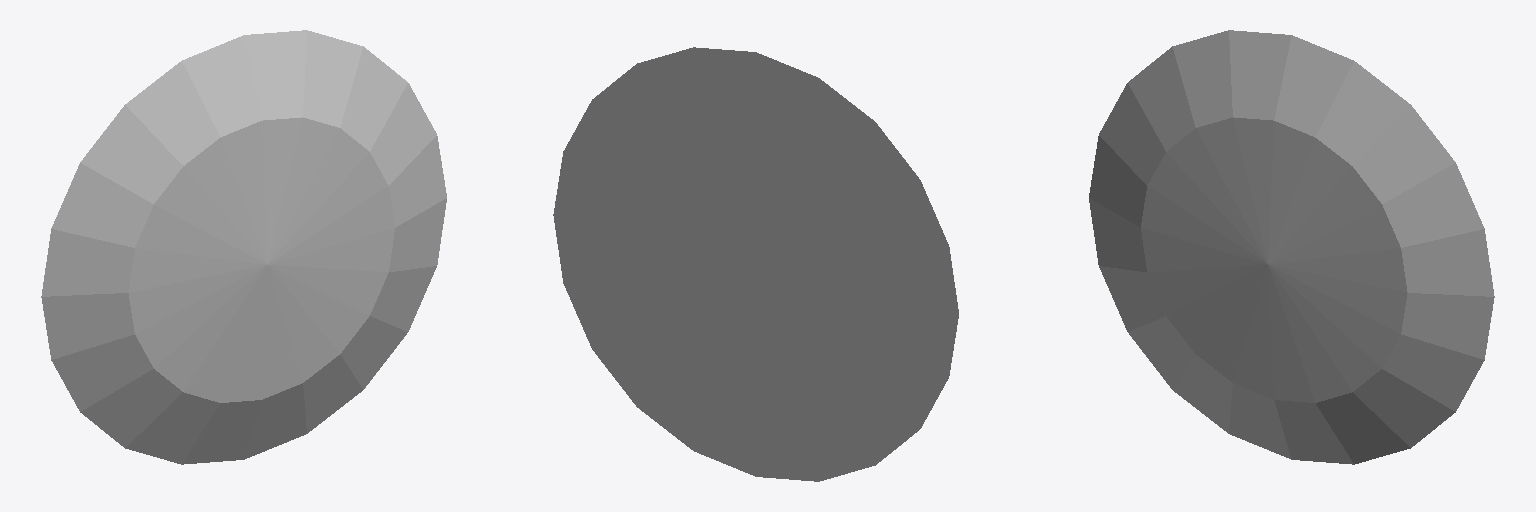
File: goal.obj
3 views of the same model, side by side, from view 1: azimuth 30°, elevation 25°; view 2: azimuth 150°, elevation 25°; view 3: azimuth 330°, elevation 25° (orthographic).
Parts seen in each view (by area): view 1: goal:pCylinder1; view 2: goal:pCylinder1; view 3: goal:pCylinder1.
Part boxes in pixels (left/top/right/bottom): goal:pCylinder1: left=41, top=30, right=446, bottom=464; goal:pCylinder1: left=553, top=47, right=958, bottom=481; goal:pCylinder1: left=1089, top=30, right=1494, bottom=464.
Bounding box in the file's own units: 17.75 × 17.75 × 1.77.